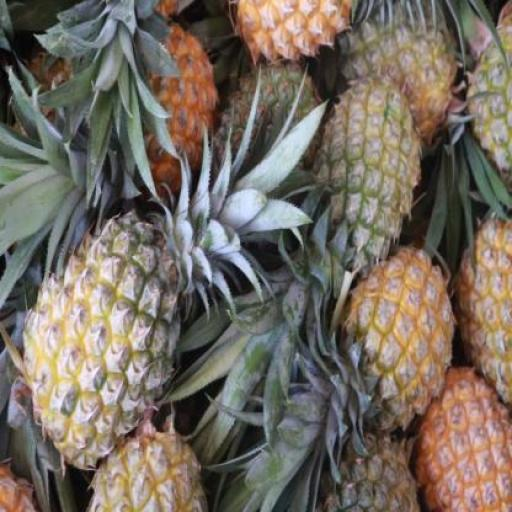------------------------------: (26, 217, 178, 465), (318, 78, 417, 272), (338, 0, 456, 143), (86, 408, 208, 510)
Pineapple - v8 v1: (346, 249, 454, 432), (413, 364, 512, 511)
